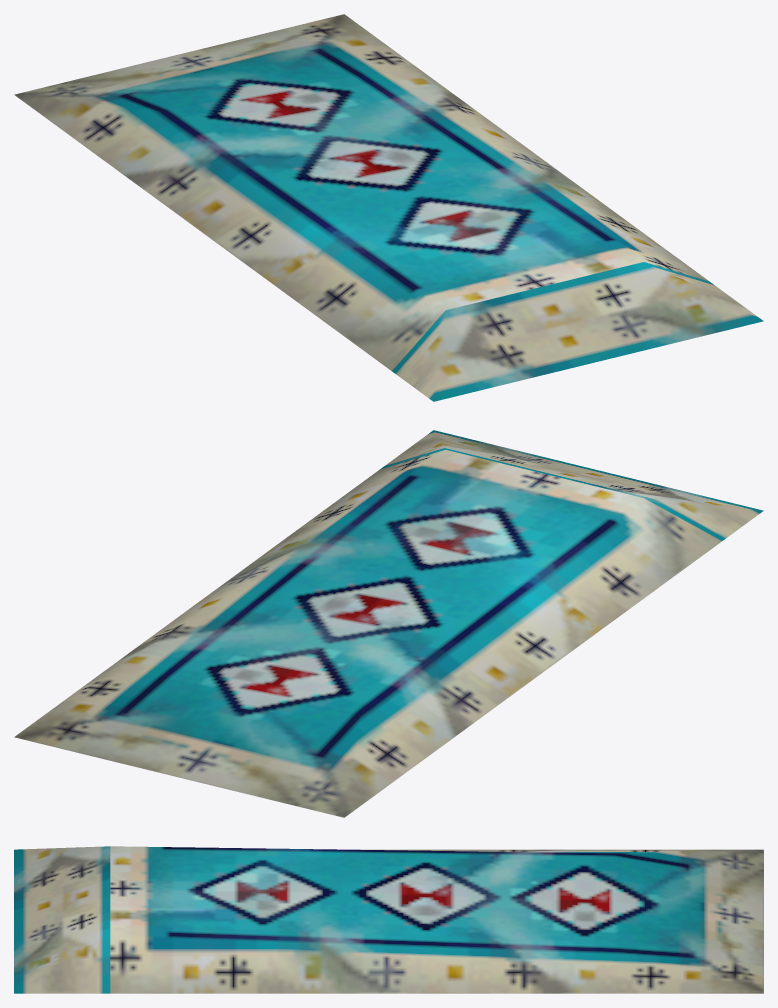
The model's file is M5_Bed_Floor03.glb.
3 renders of one model, top to bottom at view 1: azimuth 30°, elevation 25°; view 2: azimuth 150°, elevation 25°; view 3: azimuth 270°, elevation 25°, orthographic. The views are drawn at different scales.
Parts seen in each view (by area): view 1: M5_BED_FLOOR03; view 2: M5_BED_FLOOR03; view 3: M5_BED_FLOOR03.
Boxes of the visible parts, x1,y1,x2,y2 form: M5_BED_FLOOR03: (14, 14, 763, 401); M5_BED_FLOOR03: (14, 430, 763, 817); M5_BED_FLOOR03: (14, 846, 763, 993).
Size of the model in its own units: 1 by 0.104 by 2.2.
1 material, 1 textured.
